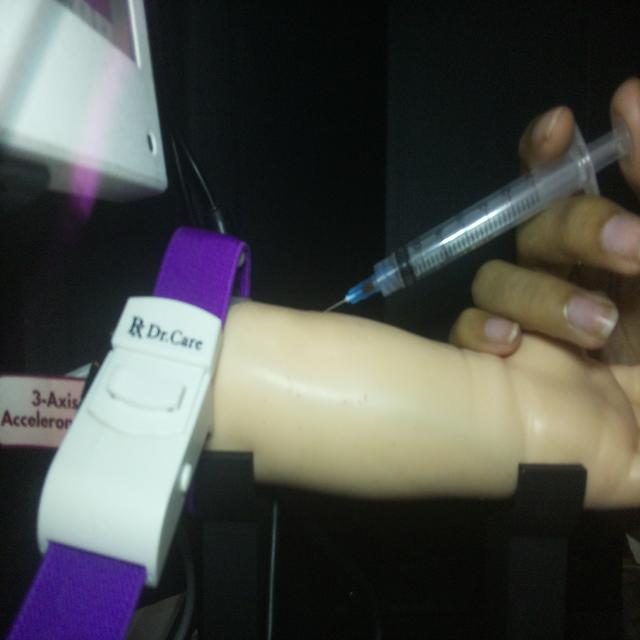20 degrees: (322, 111, 634, 315)
